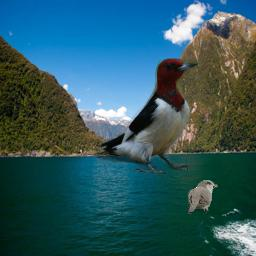Cuckoo: (187, 180, 218, 214)
Woodpecker: (93, 58, 201, 175)
